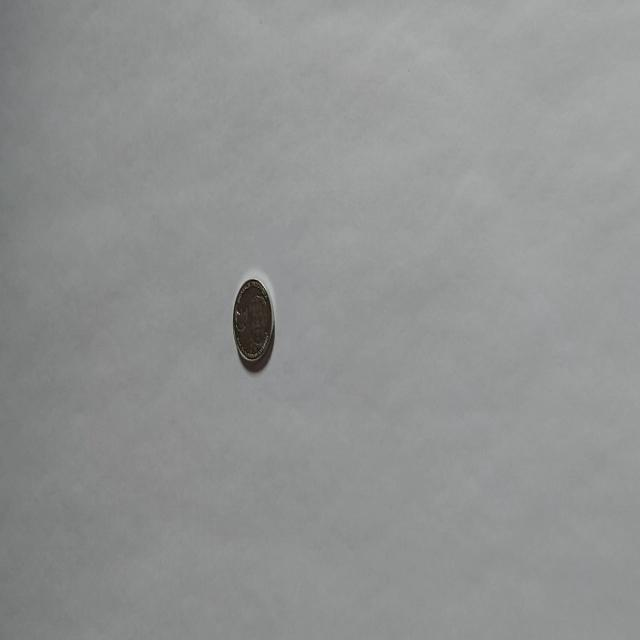seratus rupiah: (232, 276, 274, 370)
